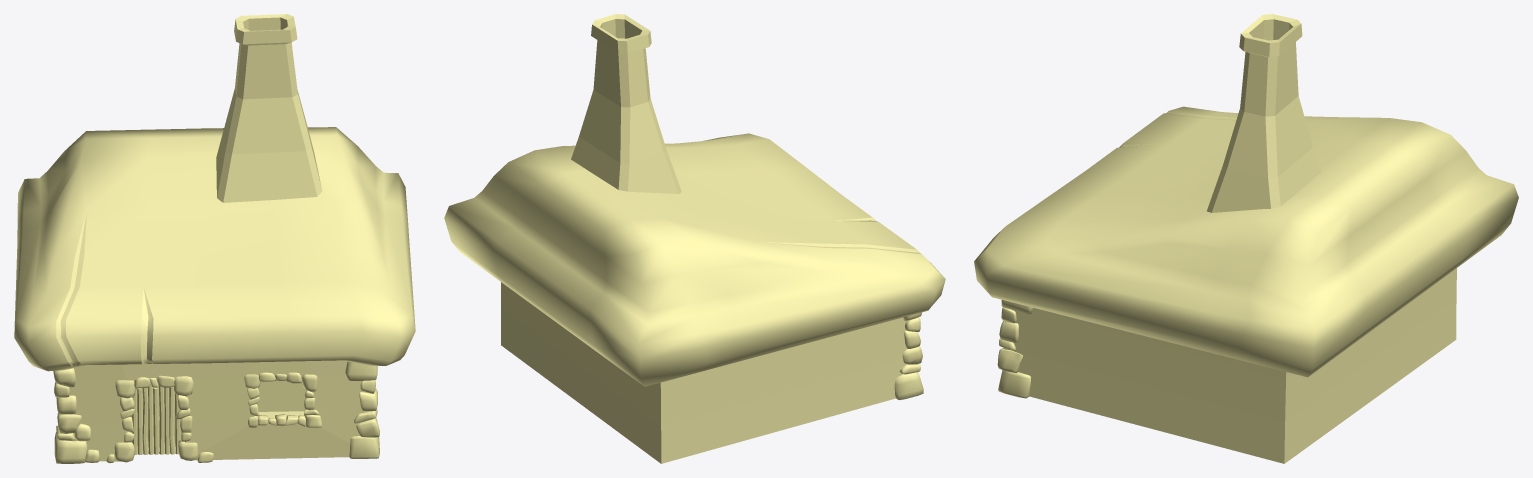
File: house_2.011.fbx
The picture shows the model from 3 angles, left to right: view 1: azimuth 30°, elevation 25°; view 2: azimuth 150°, elevation 25°; view 3: azimuth 270°, elevation 25°; orthographic projection. The views are drawn at different scales.
Parts seen in each view (by area): view 1: house_2.011; view 2: house_2.011; view 3: house_2.011.
Boxes of the visible parts, <box> form: house_2.011: <box>14,14,415,463</box>; house_2.011: <box>444,14,945,463</box>; house_2.011: <box>974,14,1518,463</box>.
Bounding box in the file's own units: 1253 × 940 × 1228.
